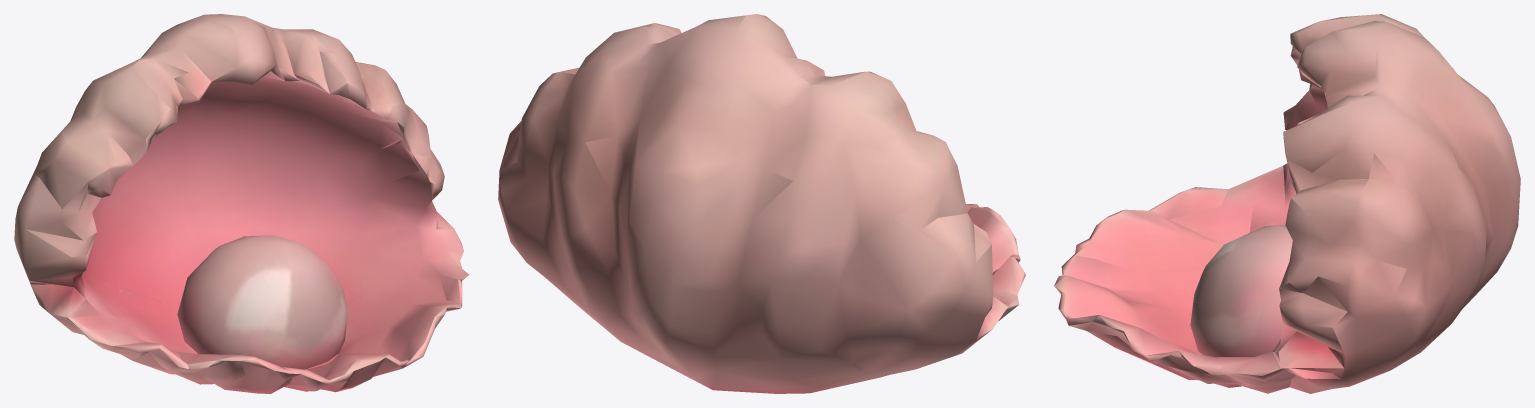
The model's file is pearlShellV2.glb.
3 views of the same model, side by side, from view 1: azimuth 30°, elevation 25°; view 2: azimuth 150°, elevation 25°; view 3: azimuth 270°, elevation 25° (orthographic). The views are drawn at different scales.
Parts seen in each view (by area): view 1: model; view 2: model; view 3: model.
Part boxes in pixels (left/top/right/bottom): model: left=14, top=14, right=469, bottom=393; model: left=498, top=14, right=1025, bottom=393; model: left=1054, top=14, right=1520, bottom=393.
Bounding box in the file's own units: 1.9 × 1.3 × 1.75.
1 material, 1 textured.
